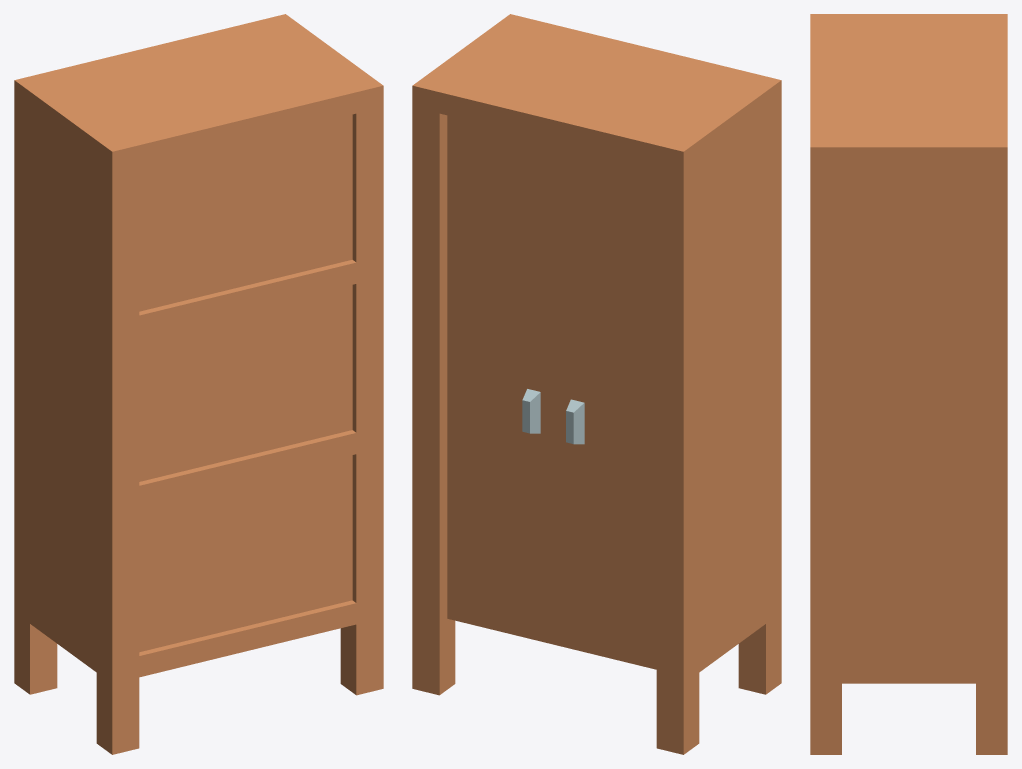
Rendered from bookcaseClosedDoors.fbx.
3 renders of one model, left to right at view 1: azimuth 30°, elevation 25°; view 2: azimuth 150°, elevation 25°; view 3: azimuth 270°, elevation 25°, orthographic.
Visible parts, largest first — view 1: bookcaseClosedDoors; view 2: bookcaseClosedDoors, doorLeft, doorRight; view 3: bookcaseClosedDoors.
Part boxes in pixels (x1,y1,x2,y2): bookcaseClosedDoors: [14, 14, 383, 754]; bookcaseClosedDoors: [412, 14, 781, 754]; doorLeft: [447, 115, 555, 634]; doorRight: [556, 142, 656, 658]; bookcaseClosedDoors: [810, 14, 1007, 754].
Size of the model in its own units: 4 by 8.5 by 2.5.
